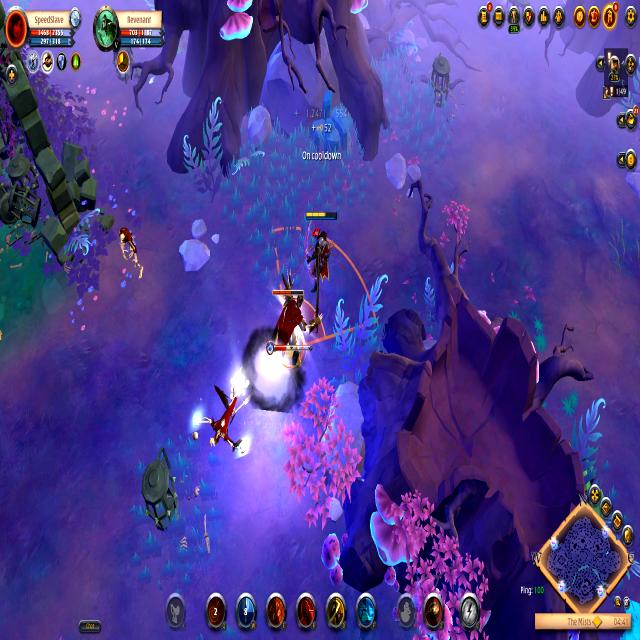ore: (267, 280, 310, 368), (116, 220, 145, 286)
red: (302, 205, 338, 288)
silver: (268, 223, 379, 355)
stone: (228, 364, 252, 406)
